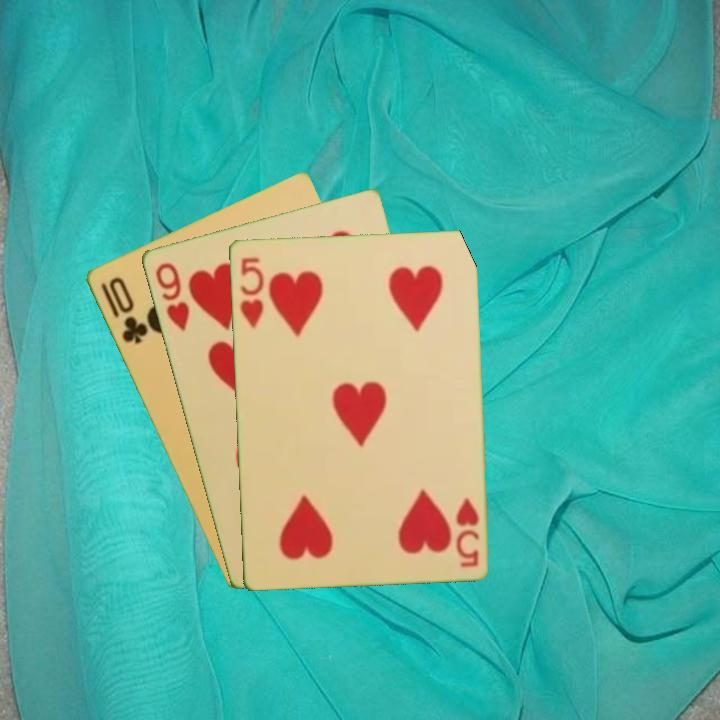10c: (96, 273, 151, 347)
5h: (236, 253, 266, 331), (452, 493, 481, 570)
9h: (151, 259, 192, 334)
